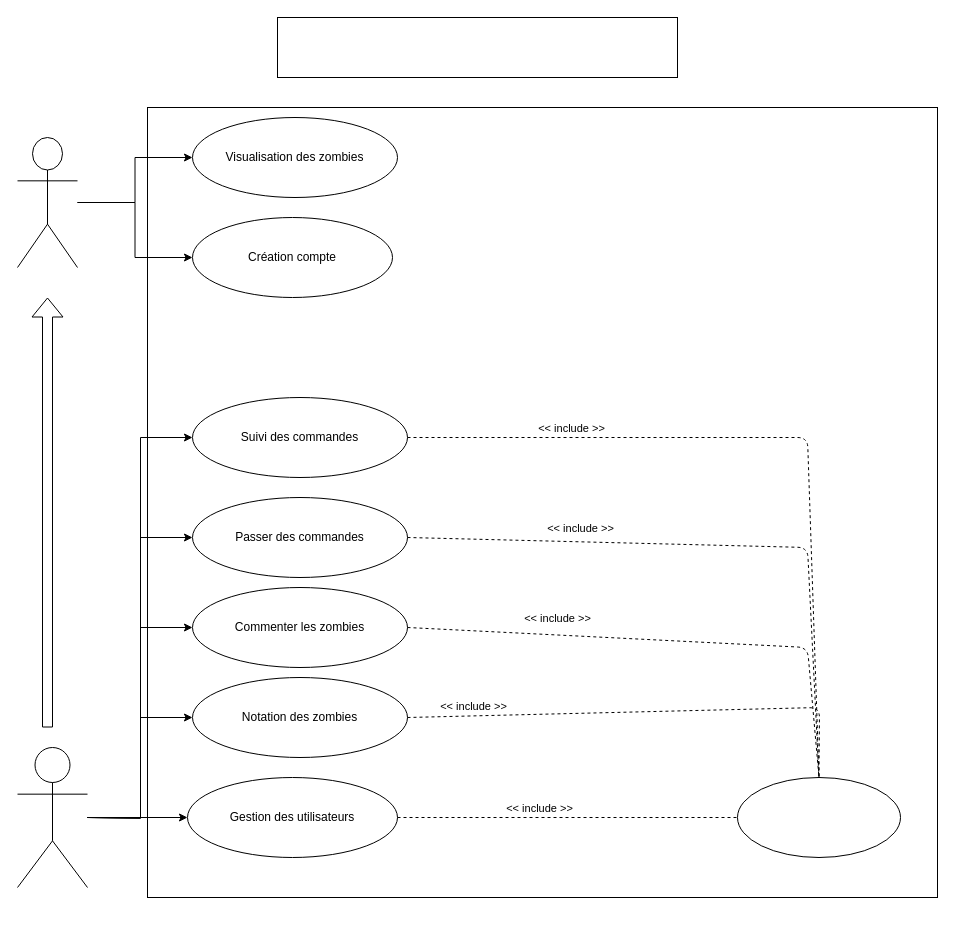
Some shapes in this 955 by 926 pixel diagram are drawn without their labels. The box of each missing label's shape, as (x1, y1, x2, y2) in pixels:
Client: (16, 746, 88, 888)
Se connecter: (736, 776, 900, 858)
Use case pour les visiteurs et clients: (276, 16, 678, 78)
Visiteur: (16, 136, 78, 268)
